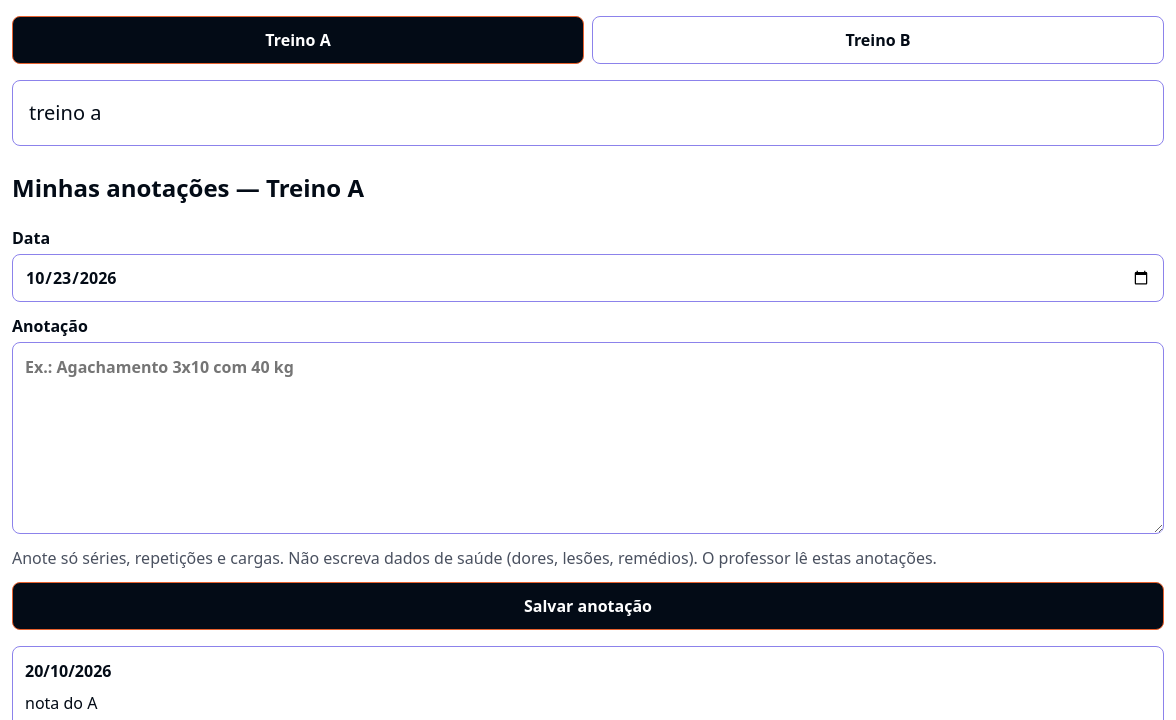
Test: MinhaFicha › mostra as anotações do treino da aba aberta, abaixo do treino
The width and height of the screenshot is (1176, 720).
Expected: the heading "Minhas anotações — Treino A" is shown, [12, 171, 364, 204]
Expected: the text "nota do A" is shown, [25, 692, 97, 714]
Click the tab "Treino B" at (878, 40), box [592, 16, 1164, 64]
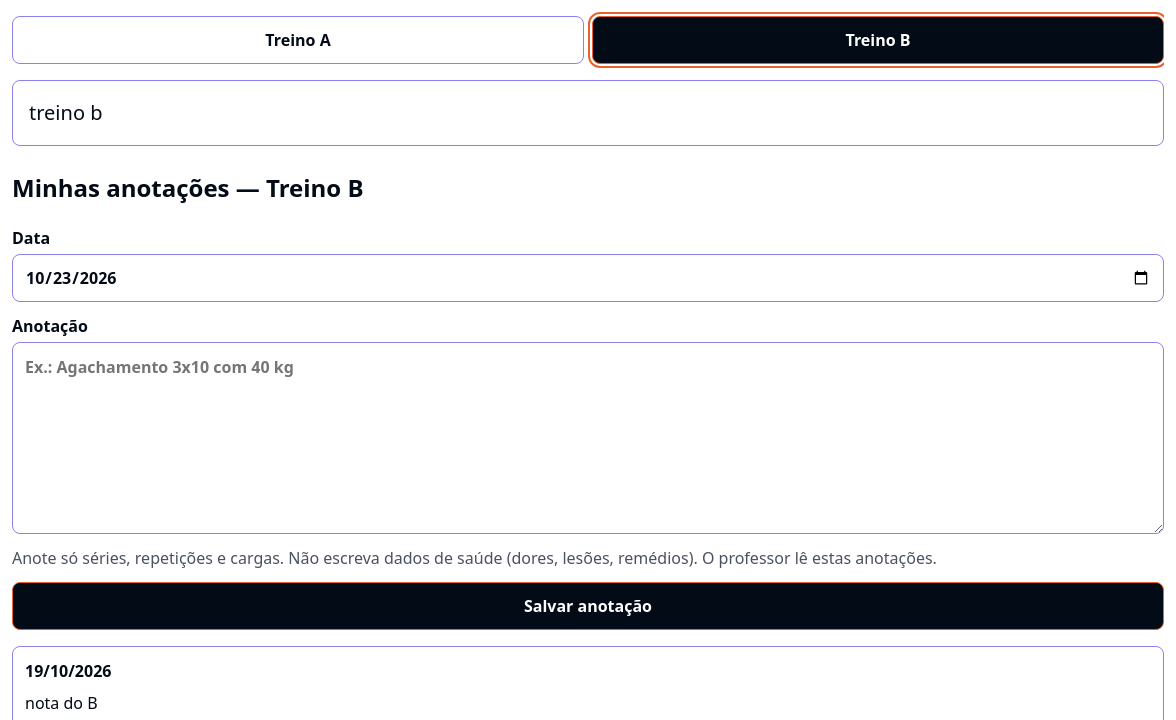
Expected: the heading "Minhas anotações — Treino B" is shown, [12, 171, 364, 204]
Expected: the text "nota do B" is shown, [25, 692, 98, 714]
Expected: the text "nota do A" is gone
